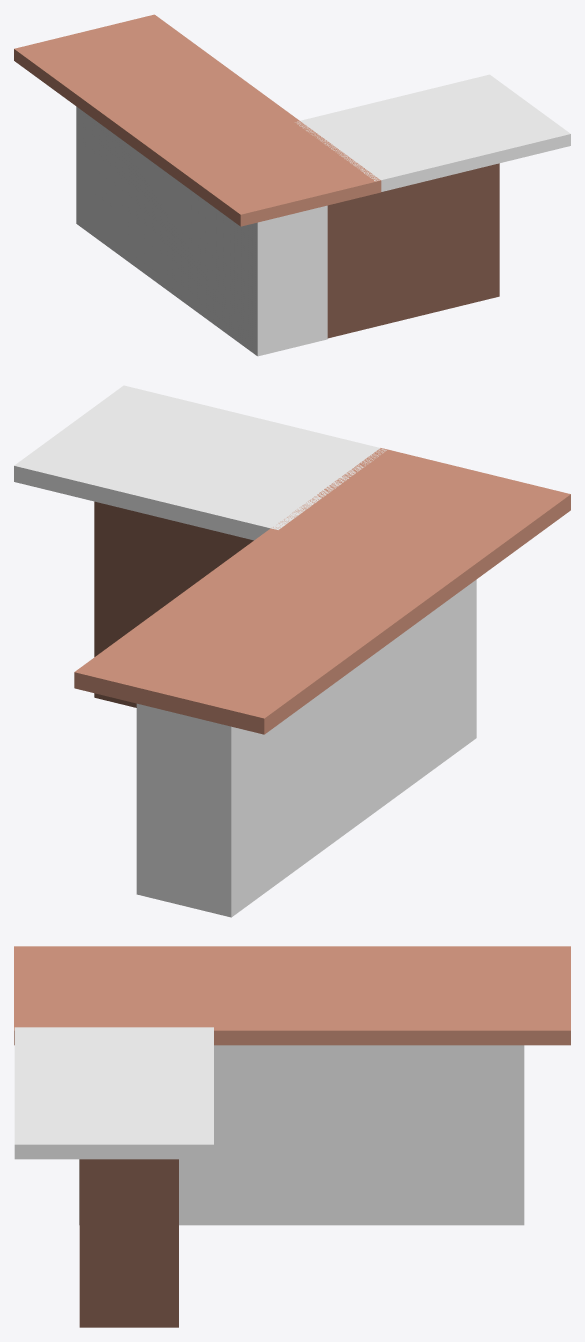
File: ladasklep.glb
3 renders of one model, top to bottom at view 1: azimuth 30°, elevation 25°; view 2: azimuth 150°, elevation 25°; view 3: azimuth 270°, elevation 25°, orthographic. The views are drawn at different scales.
Parts seen in each view (by area): view 1: Cube.002, Cube, Cube.001, Cube.003; view 2: Cube.002, Cube, Cube.003, Cube.001; view 3: Cube, Cube.002, Cube.003, Cube.001.
Part boxes in pixels (x1=…): Cube.002: x1=14, y1=14, x2=381, y2=226; Cube: x1=76, y1=106, x2=327, y2=356; Cube.001: x1=327, y1=163, x2=499, y2=338; Cube.003: x1=295, y1=74, x2=570, y2=191; Cube.002: x1=74, y1=448, x2=570, y2=734; Cube: x1=136, y1=579, x2=476, y2=917; Cube.003: x1=14, y1=385, x2=386, y2=540; Cube.001: x1=94, y1=501, x2=253, y2=707; Cube: x1=79, y1=1045, x2=524, y2=1225; Cube.002: x1=14, y1=946, x2=570, y2=1045; Cube.003: x1=14, y1=1027, x2=213, y2=1159; Cube.001: x1=79, y1=1159, x2=178, y2=1327.
Size of the model in its own units: 6.96 by 3.45 by 8.26.
4 materials, 2 textured.
